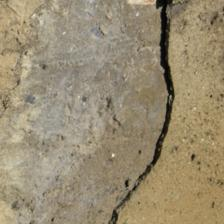Crack: (26, 54, 137, 126), (17, 0, 93, 94)
